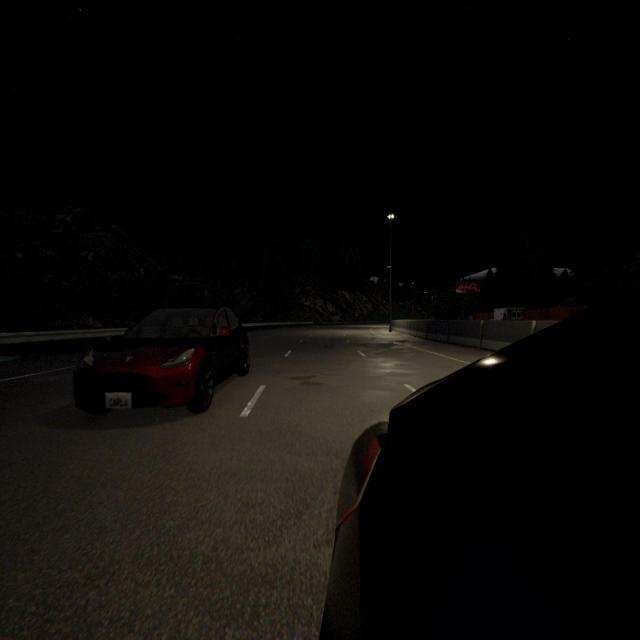Vehicle: (320, 284, 640, 640), (73, 307, 251, 412)
